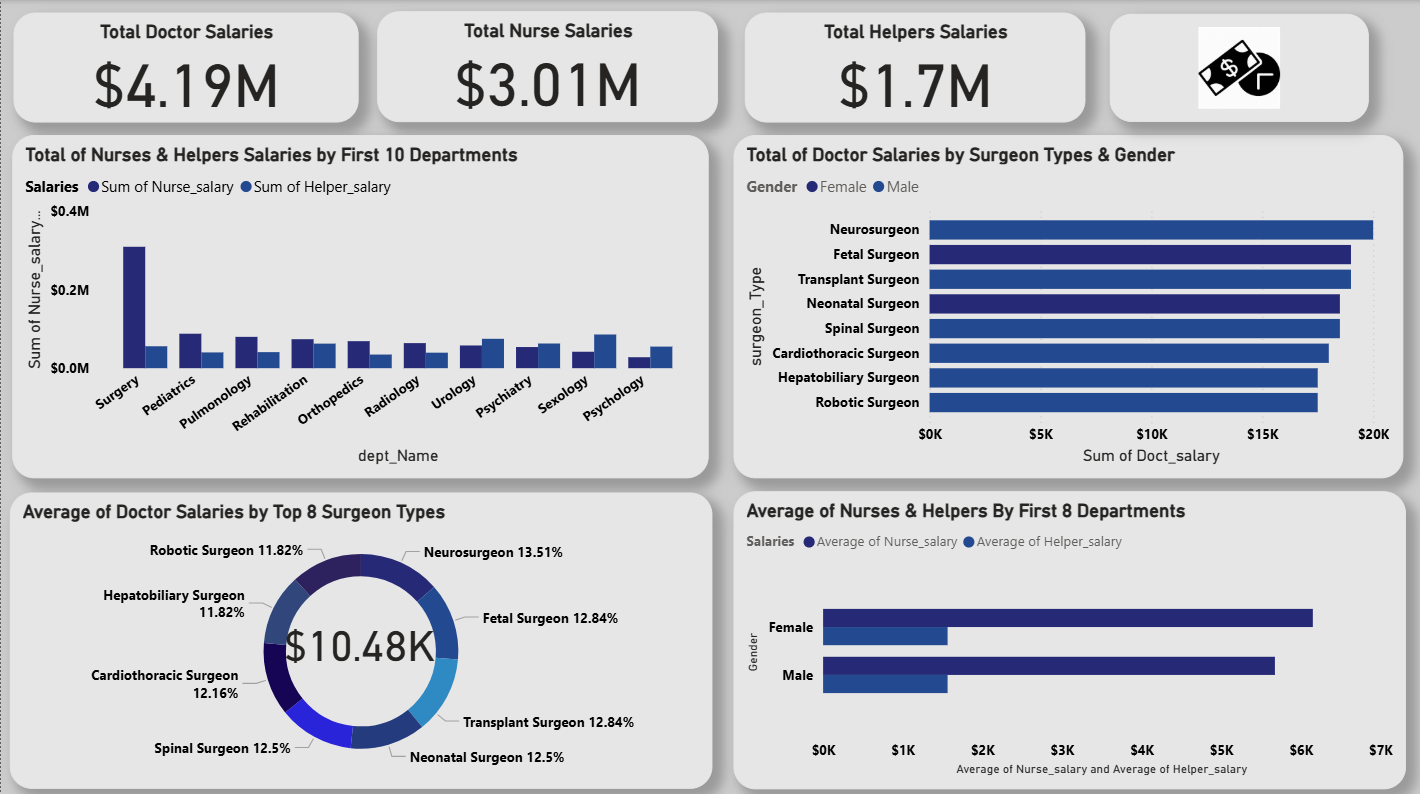

The dashboard page shown, as its layout file describes it:
{"tool":"powerbi","page":{"name":"2","canvas":[1280,720],"ordinal":1},"visuals":[{"type":"card","title":"Total Doctor Salaries","fields":{"Values":["Sum(Doctors.Doct_salary)"]},"box":[11.6,11.6,310.9,98.9],"z":0},{"type":"card","title":"Total Nurse Salaries","fields":{"Values":["Sum(Nurse.Nurse_salary)"]},"box":[339.1,10.3,307,100.2],"z":1000},{"type":"card","title":"Total Helpers  Salaries","fields":{"Values":["Sum(Helpers.Helper_salary)"]},"box":[670.6,11.6,307,98.9],"z":2000},{"type":"clusteredColumnChart","title":"Total of Nurses & Helpers Salaries by First 10 Departments","fields":{"Y":["Sum(Nurse.Nurse_salary)","Sum(Helpers.Helper_salary)"],"Category":["Department.dept_Name"]},"box":[10.3,122,628.2,309.6],"z":3000},{"type":"group","id":"g1","title":"Group 1","box":[7.7,444.5,633.3,267.2],"z":3000,"group":"g2"},{"type":"donutChart","title":"Average of Doctor Salaries by Top 8 Surgeon Types","fields":{"Y":["Avg(Doctors.Doct_salary)"],"Category":["Doctors.surgeon_Type"]},"box":[7.7,444.5,633.3,267.2],"z":3000,"group":"g3"},{"type":"group","id":"g2","title":"Group 3","box":[7.7,444.5,633.3,267.2],"z":4000},{"type":"group","id":"g3","title":"Group 2","box":[7.7,444.5,633.3,267.2],"z":4003,"group":"g1"},{"type":"barChart","title":"Total of Doctor Salaries by Surgeon Types & Gender","fields":{"Y":["Sum(Doctors.Doct_salary)"],"Series":["Doctors.Gender"],"Category":["Doctors.surgeon_Type"]},"box":[660.3,122,603.8,309.6],"z":5000},{"type":"card","fields":{"Values":["Avg(Doctors.Doct_salary)"]},"box":[199.6,549.9,247.9,57.5],"z":5000,"group":"g2"},{"type":"clusteredBarChart","title":"Average of Nurses & Helpers By First 8 Departments","fields":{"Y":["Avg(Nurse.Nurse_salary)","Avg(Helpers.Helper_salary)"],"Category":["Nurse.Gender"]},"box":[660.3,443.2,606.3,268.5],"z":6000},{"type":"image","box":[999.4,12.8,233.8,97.6],"z":8000}]}

Visuals, with their boxes in screenshot pixels (x1, y1, x2, y2), scaled from the page's 1280x720 canvas onto the 1420x794 screenshot:
"Total Doctor Salaries" card: BBox(13, 13, 358, 122)
"Total Nurse Salaries" card: BBox(376, 11, 717, 122)
"Total Helpers  Salaries" card: BBox(744, 13, 1085, 122)
"Total of Nurses & Helpers Salaries by First 10 Departments" clusteredColumnChart: BBox(11, 135, 708, 476)
"Group 1" group: BBox(9, 490, 711, 785)
"Average of Doctor Salaries by Top 8 Surgeon Types" donutChart: BBox(9, 490, 711, 785)
"Group 3" group: BBox(9, 490, 711, 785)
"Group 2" group: BBox(9, 490, 711, 785)
"Total of Doctor Salaries by Surgeon Types & Gender" barChart: BBox(733, 135, 1402, 476)
card - Avg(Doctors.Doct_salary): BBox(221, 606, 496, 670)
"Average of Nurses & Helpers By First 8 Departments" clusteredBarChart: BBox(733, 489, 1405, 785)
image: BBox(1109, 14, 1368, 122)
